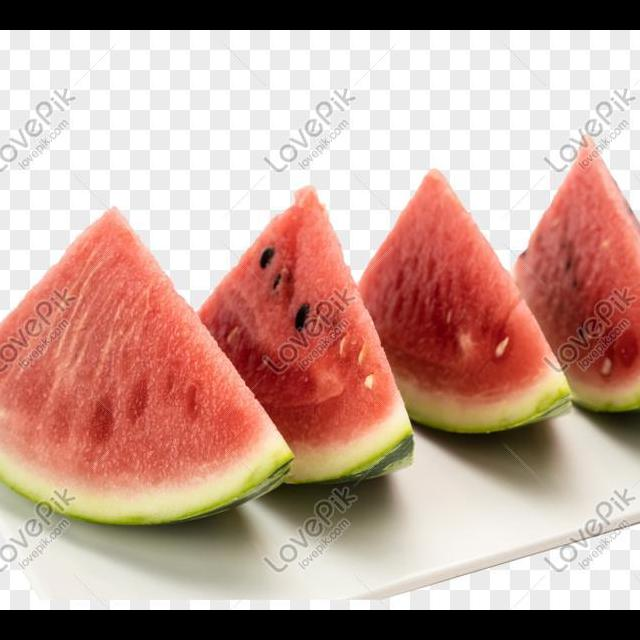watermelon: (0, 205, 297, 528), (198, 182, 418, 496), (356, 168, 574, 436), (507, 127, 640, 414)
